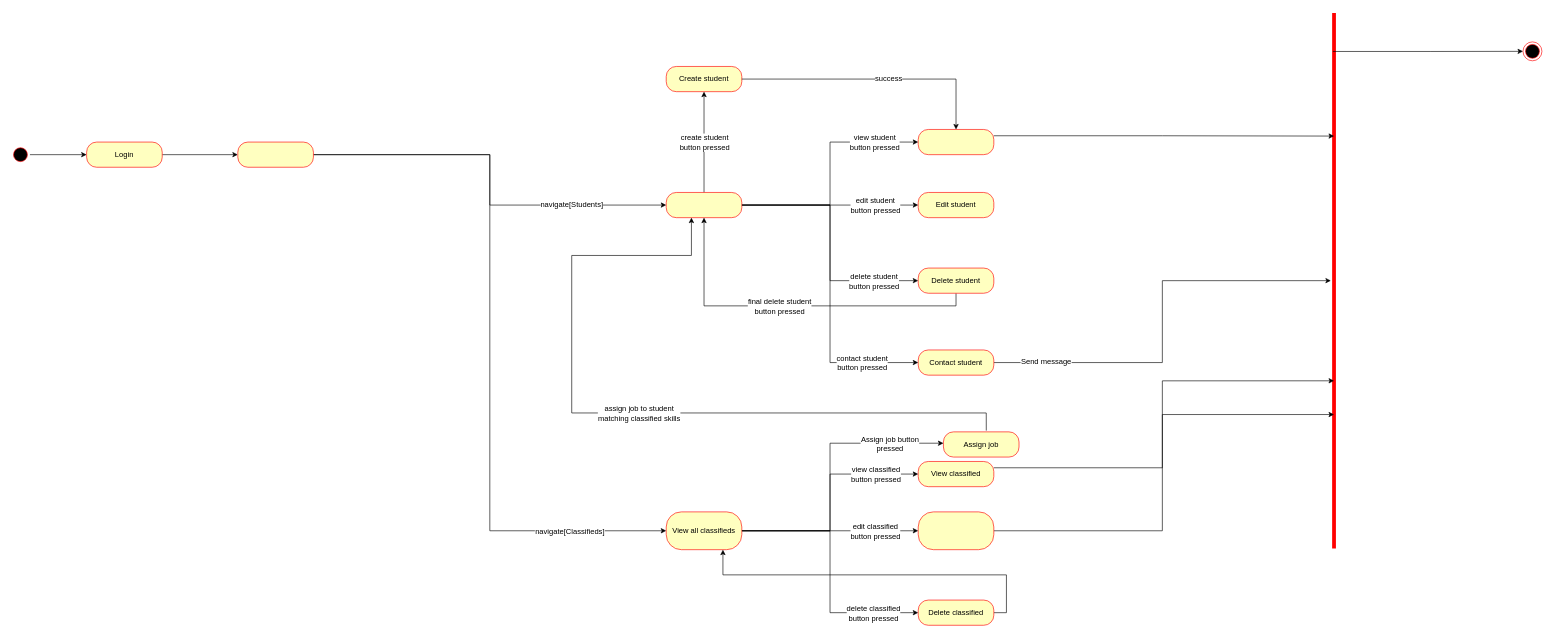
Image size: 1553x636. Some labels were removed from this diagram. The shapes that lost their labels are listed below. From the top down, each one's centre as x and y in pixels, then its label:
At (275,154): "View account details".
At (956,142): "View student".
At (704,205): "View all students".
At (956,530): "Edit classified".
